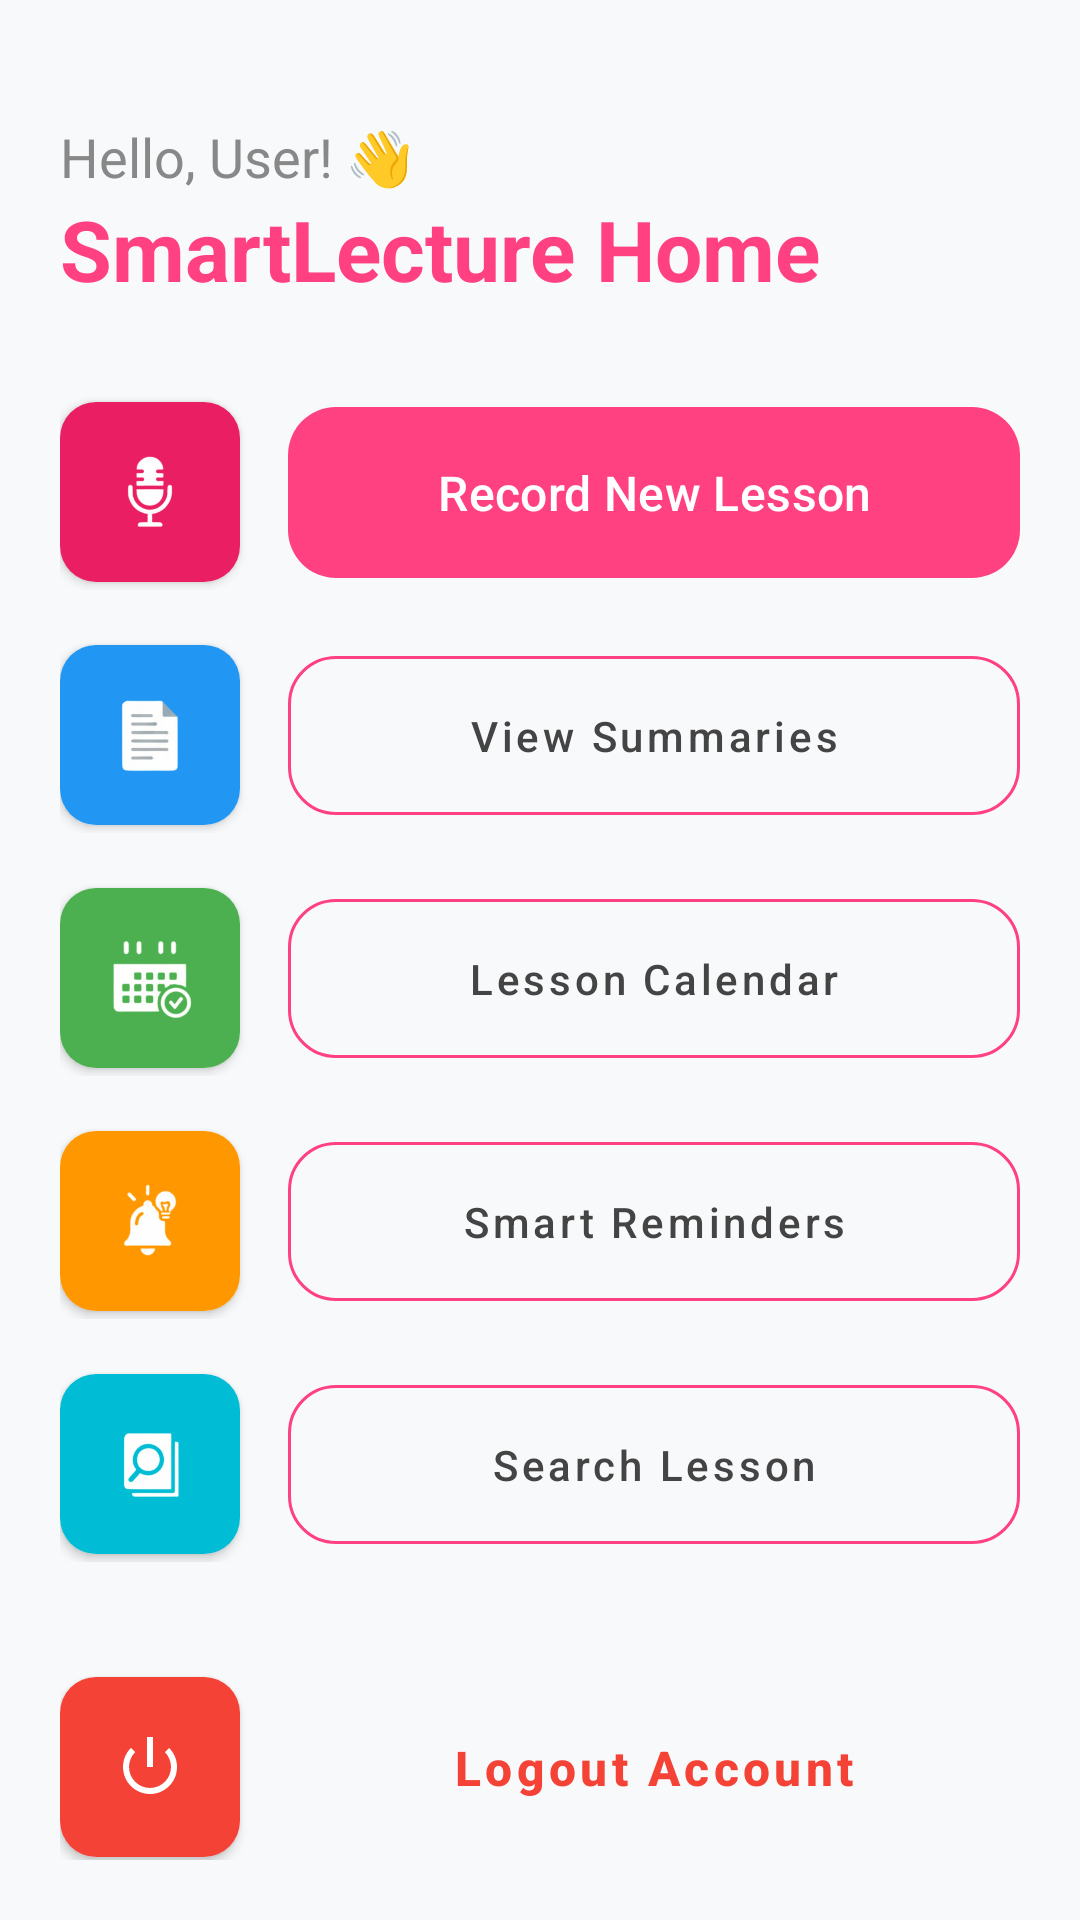

Named icons in this screenshot (1080*1920) and their bounding boxes, [x1=x1, y1=y1, x2=x2, y2=y2]:
lock power off: [x1=60, y1=1677, x2=240, y2=1857]
